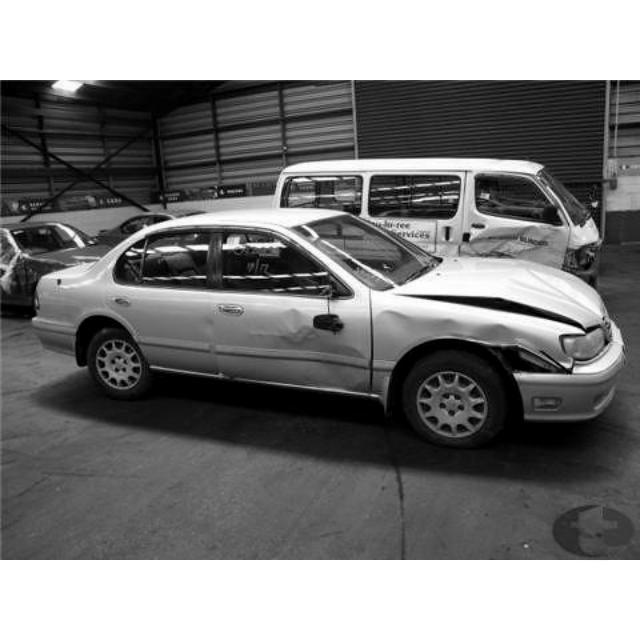bonnet-dent: (405, 262, 609, 339)
doorouter-dent: (213, 291, 357, 385)
fender-dent: (377, 298, 573, 391)
